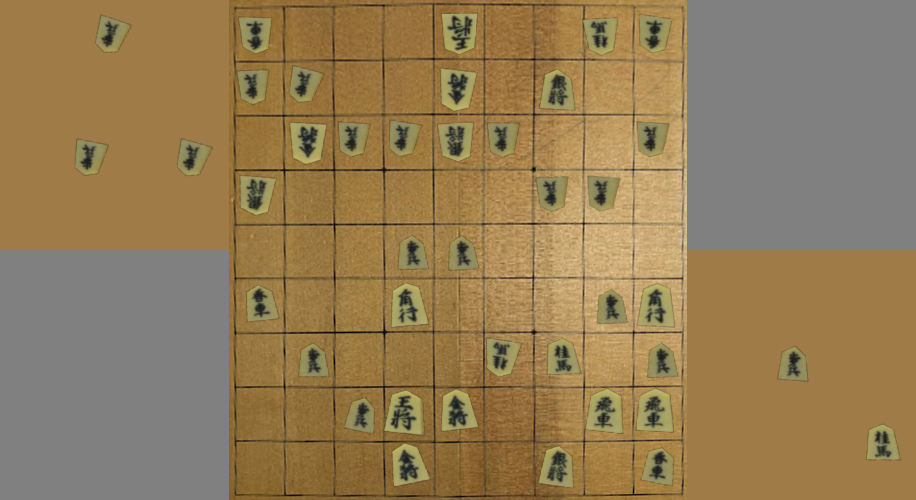A: (636, 389, 675, 432), (387, 391, 423, 435), (392, 285, 428, 327), (587, 390, 622, 433), (393, 445, 429, 486), (638, 285, 674, 326), (442, 391, 477, 431), (541, 71, 574, 110), (540, 447, 572, 487), (246, 286, 279, 322), (548, 340, 580, 374), (449, 237, 478, 270), (648, 345, 678, 376), (346, 399, 373, 433), (299, 345, 328, 376), (399, 237, 427, 269), (598, 291, 626, 323), (651, 452, 667, 480)
B: (442, 69, 476, 110), (442, 14, 477, 53), (291, 124, 325, 163), (242, 176, 275, 215), (439, 123, 472, 160), (290, 66, 323, 102), (639, 15, 671, 52), (488, 339, 520, 376), (239, 17, 271, 53), (585, 19, 616, 54), (588, 177, 619, 211), (537, 177, 568, 211), (638, 122, 669, 156), (237, 71, 268, 104), (339, 122, 369, 156), (391, 121, 420, 156), (489, 123, 518, 156)
C: (867, 426, 900, 460), (779, 348, 807, 381)
D: (95, 16, 131, 52), (178, 140, 211, 175), (76, 140, 107, 175)
